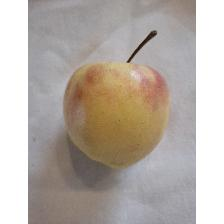Apfel: (62, 29, 170, 172)
